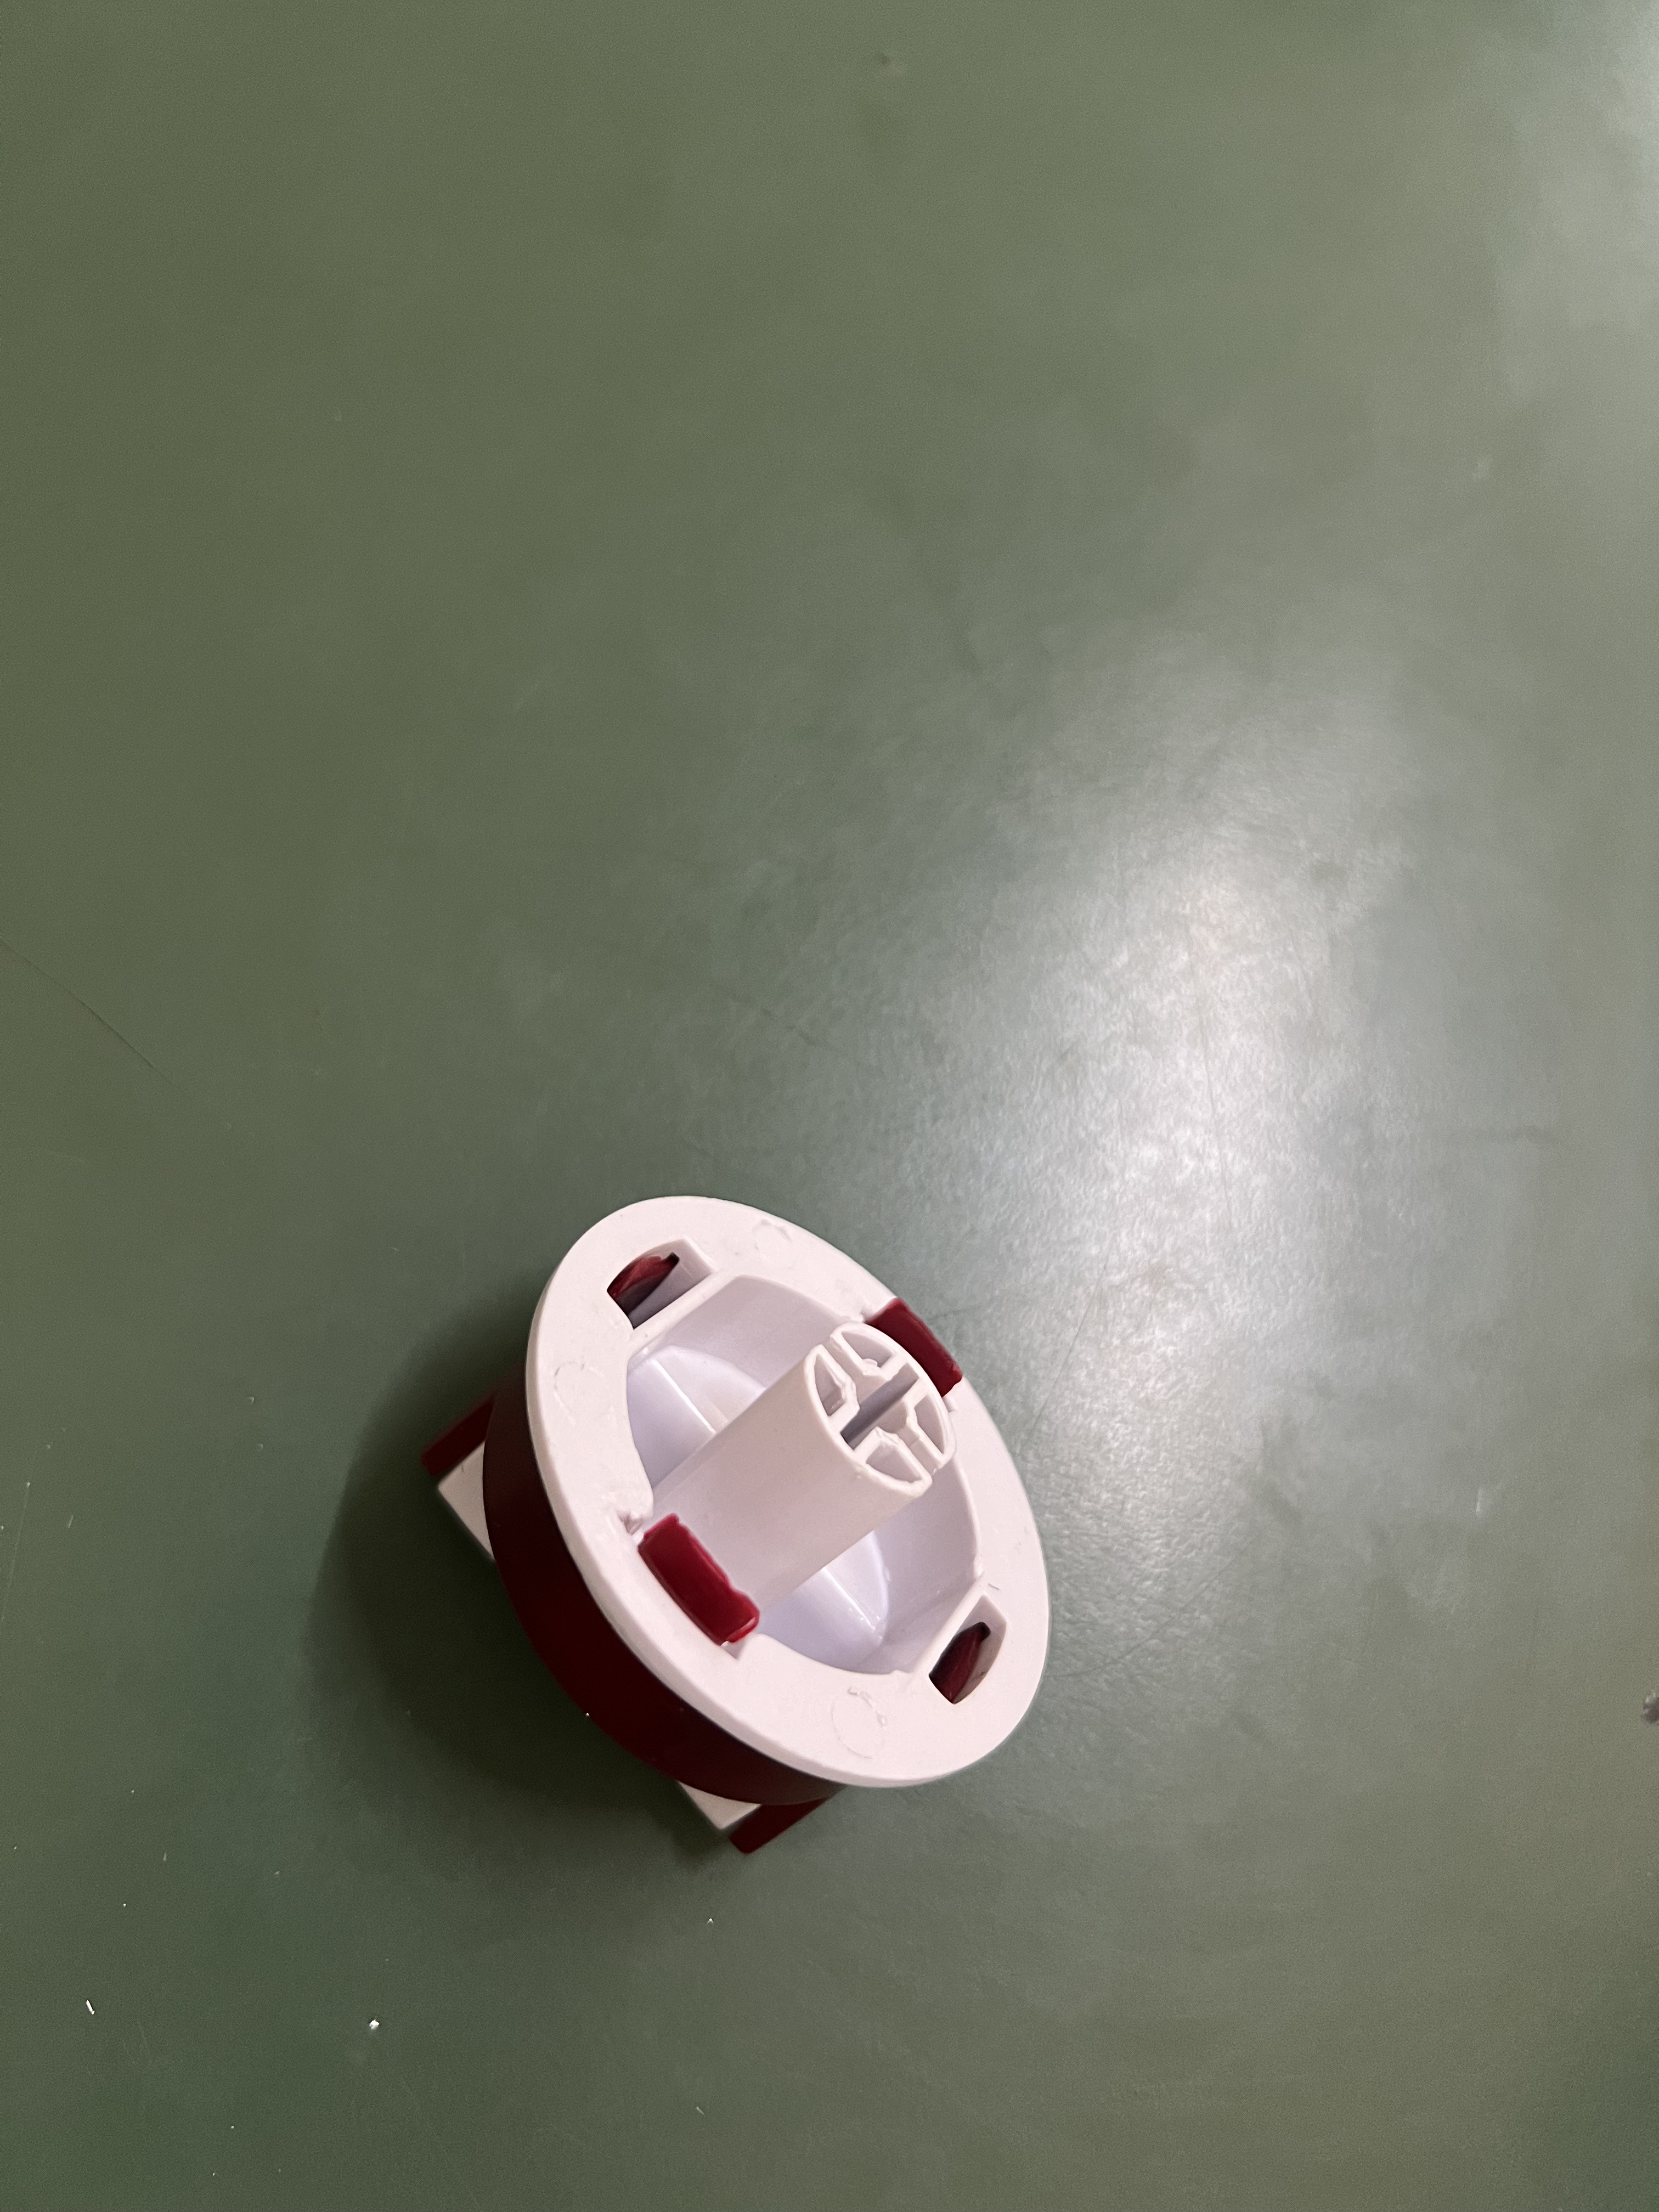regulator: (418, 1172, 1103, 1900)
